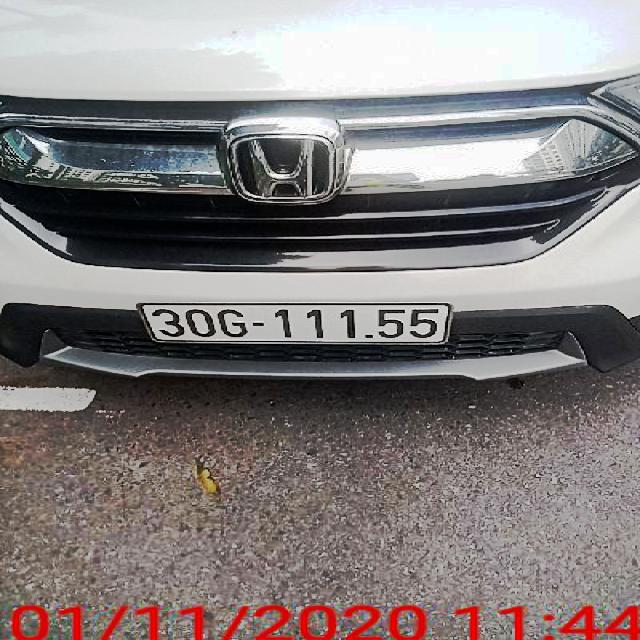license_plate: (142, 304, 453, 346)
